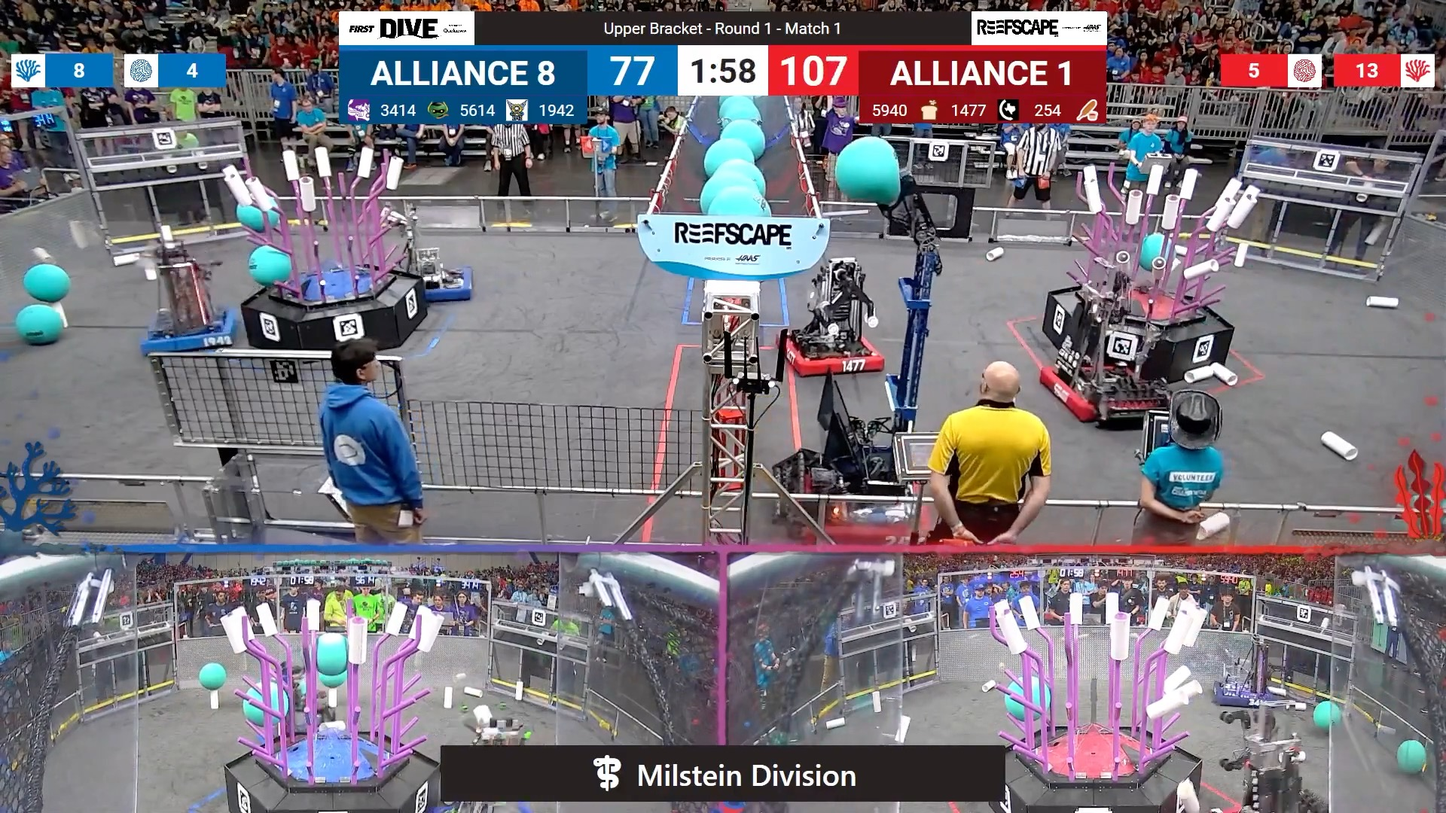bumpers: (782, 468, 941, 548), (1033, 359, 1165, 425), (778, 329, 892, 377), (142, 309, 241, 357), (1204, 674, 1294, 721), (412, 267, 490, 301)
